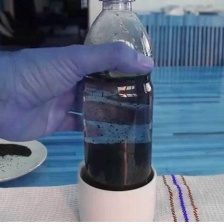bottle: (75, 0, 158, 197)
glass: (70, 152, 166, 224)
